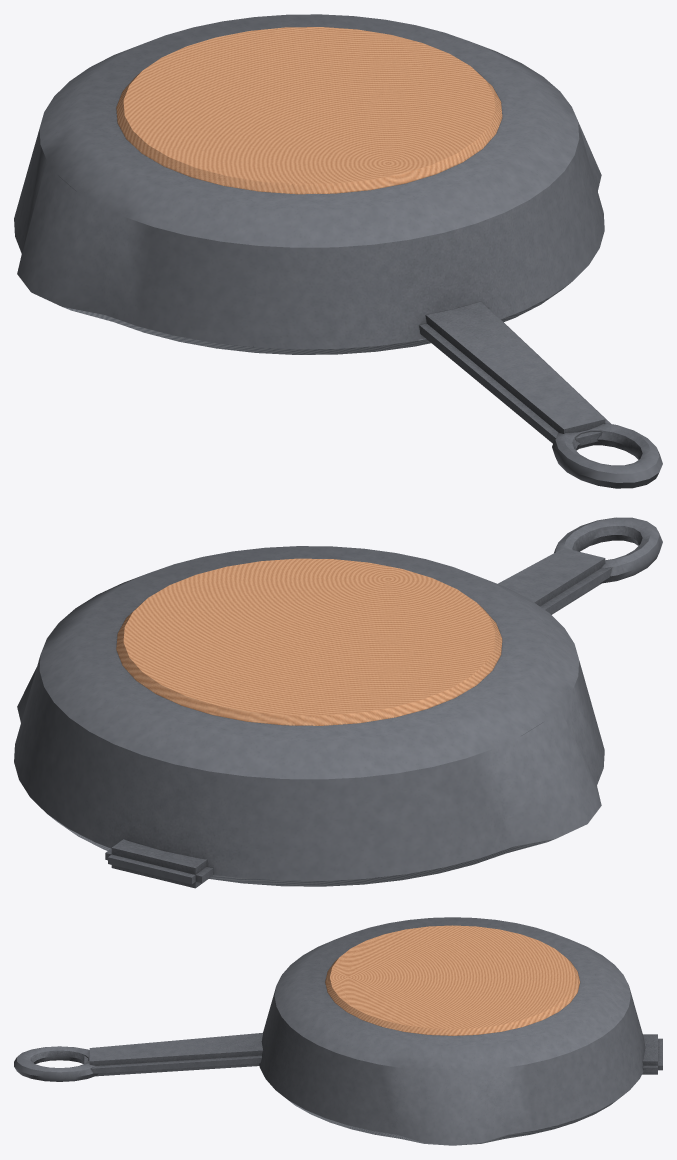
File: Boomerang_68.fbx
The picture shows the model from 3 angles, top to bottom: view 1: azimuth 30°, elevation 25°; view 2: azimuth 150°, elevation 25°; view 3: azimuth 270°, elevation 25°; orthographic projection. The views are drawn at different scales.
Parts seen in each view (by area): view 1: Boomerang_68; view 2: Boomerang_68; view 3: Boomerang_68.
Part boxes in pixels (left/top/right/bottom): Boomerang_68: left=14, top=14, right=662, bottom=488; Boomerang_68: left=14, top=517, right=662, bottom=888; Boomerang_68: left=14, top=917, right=662, bottom=1145.
Bounding box in the file's own units: 131 × 31.86 × 200.
Materials: 1 (1 with a texture image).
